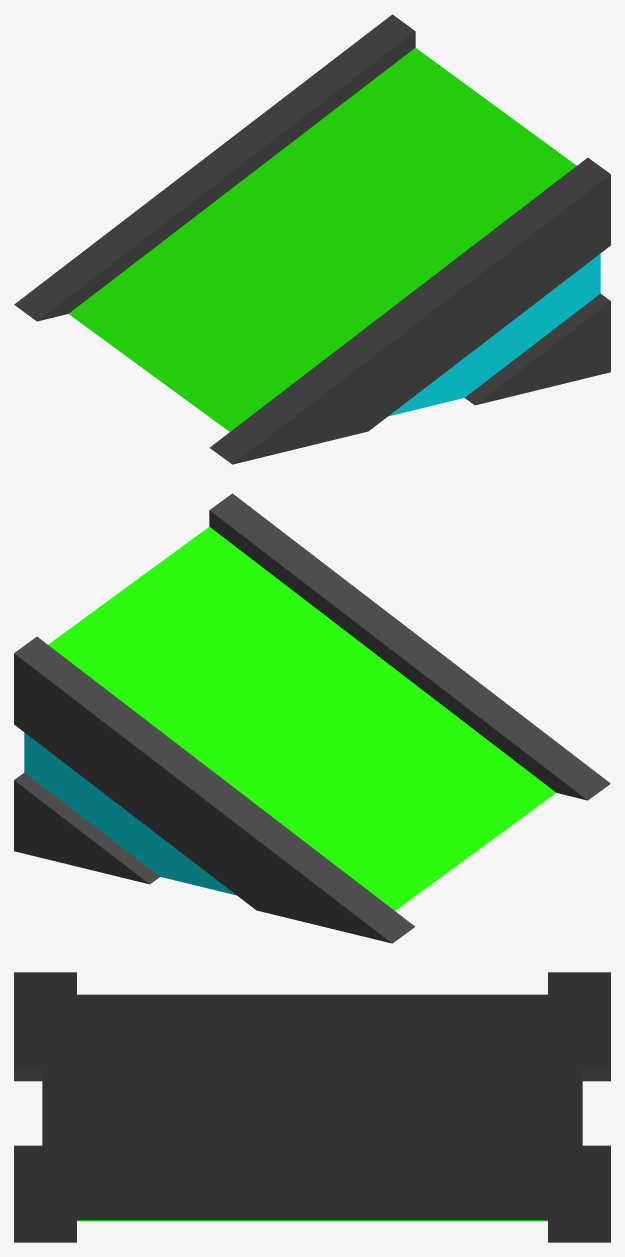
Rendered from Platform Ramp.fbx.
3 renders of one model, top to bottom at view 1: azimuth 30°, elevation 25°; view 2: azimuth 150°, elevation 25°; view 3: azimuth 270°, elevation 25°, orthographic. The views are drawn at different scales.
Parts seen in each view (by area): view 1: Ramp.001; view 2: Ramp.001; view 3: Ramp.001.
Part boxes in pixels (x1,y1,x2,y2): Ramp.001: (14, 14, 610, 464); Ramp.001: (14, 493, 610, 943); Ramp.001: (14, 972, 610, 1242).
Bounding box in the file's own units: 200 × 100 × 200.
